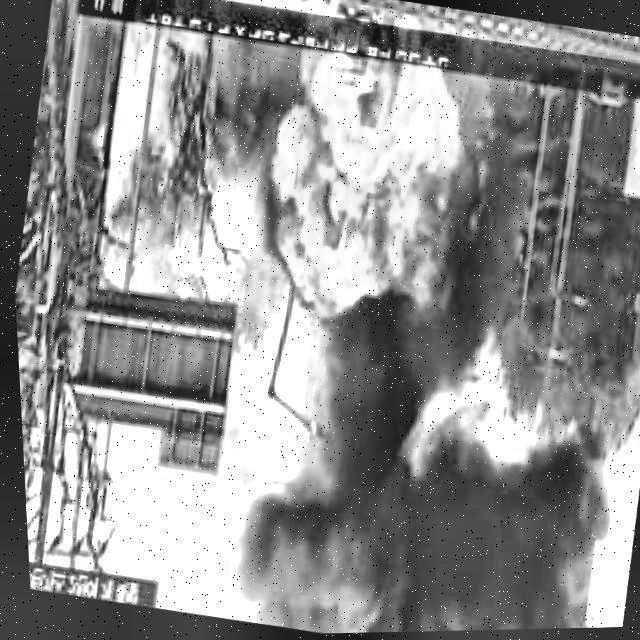Fire: (254, 40, 479, 322)
Smoke: (194, 291, 640, 637)
